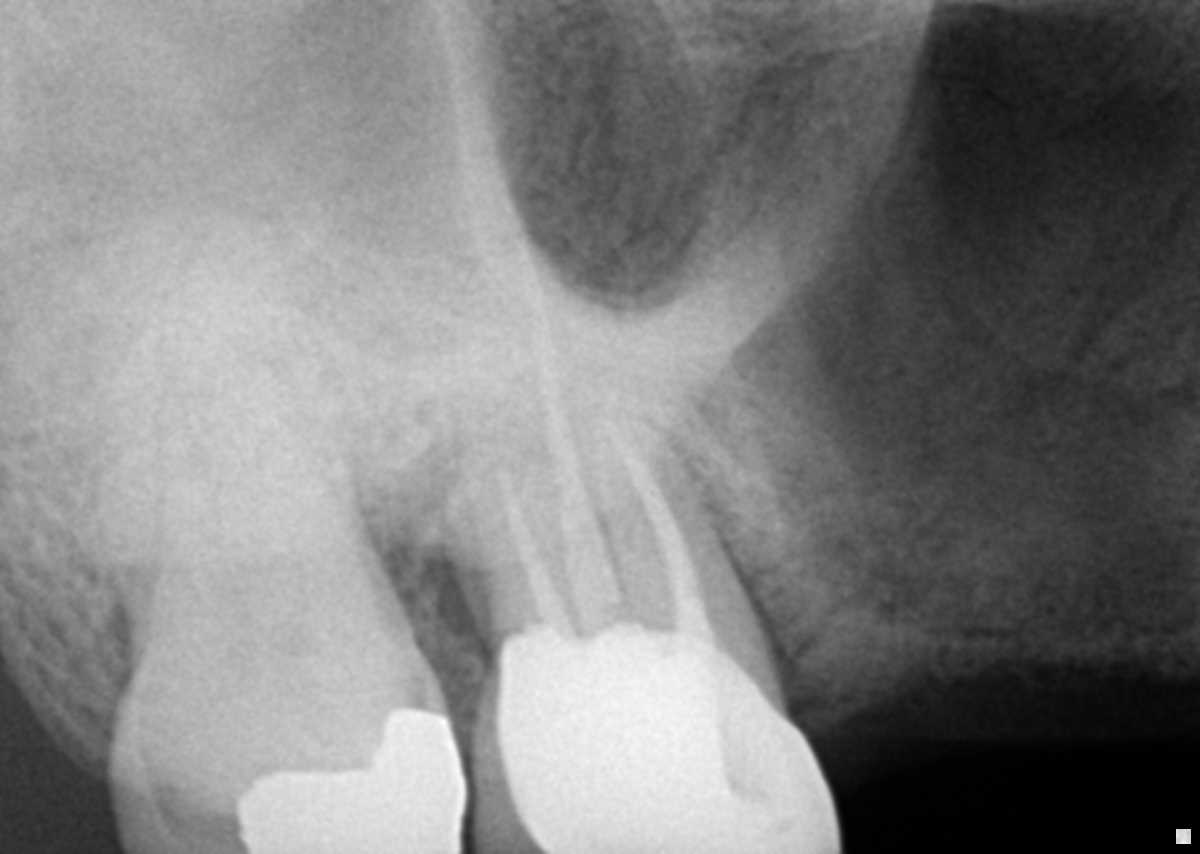Apical Lesion: (393, 439, 477, 664)
Distal Root: (99, 393, 239, 658), (450, 438, 589, 654)
Mesial Root: (600, 416, 779, 667), (258, 414, 396, 620)
Palatal Root: (143, 214, 394, 655), (466, 236, 673, 648)
Root Canal Filling: (514, 243, 622, 608), (607, 428, 711, 639), (497, 464, 579, 637)
